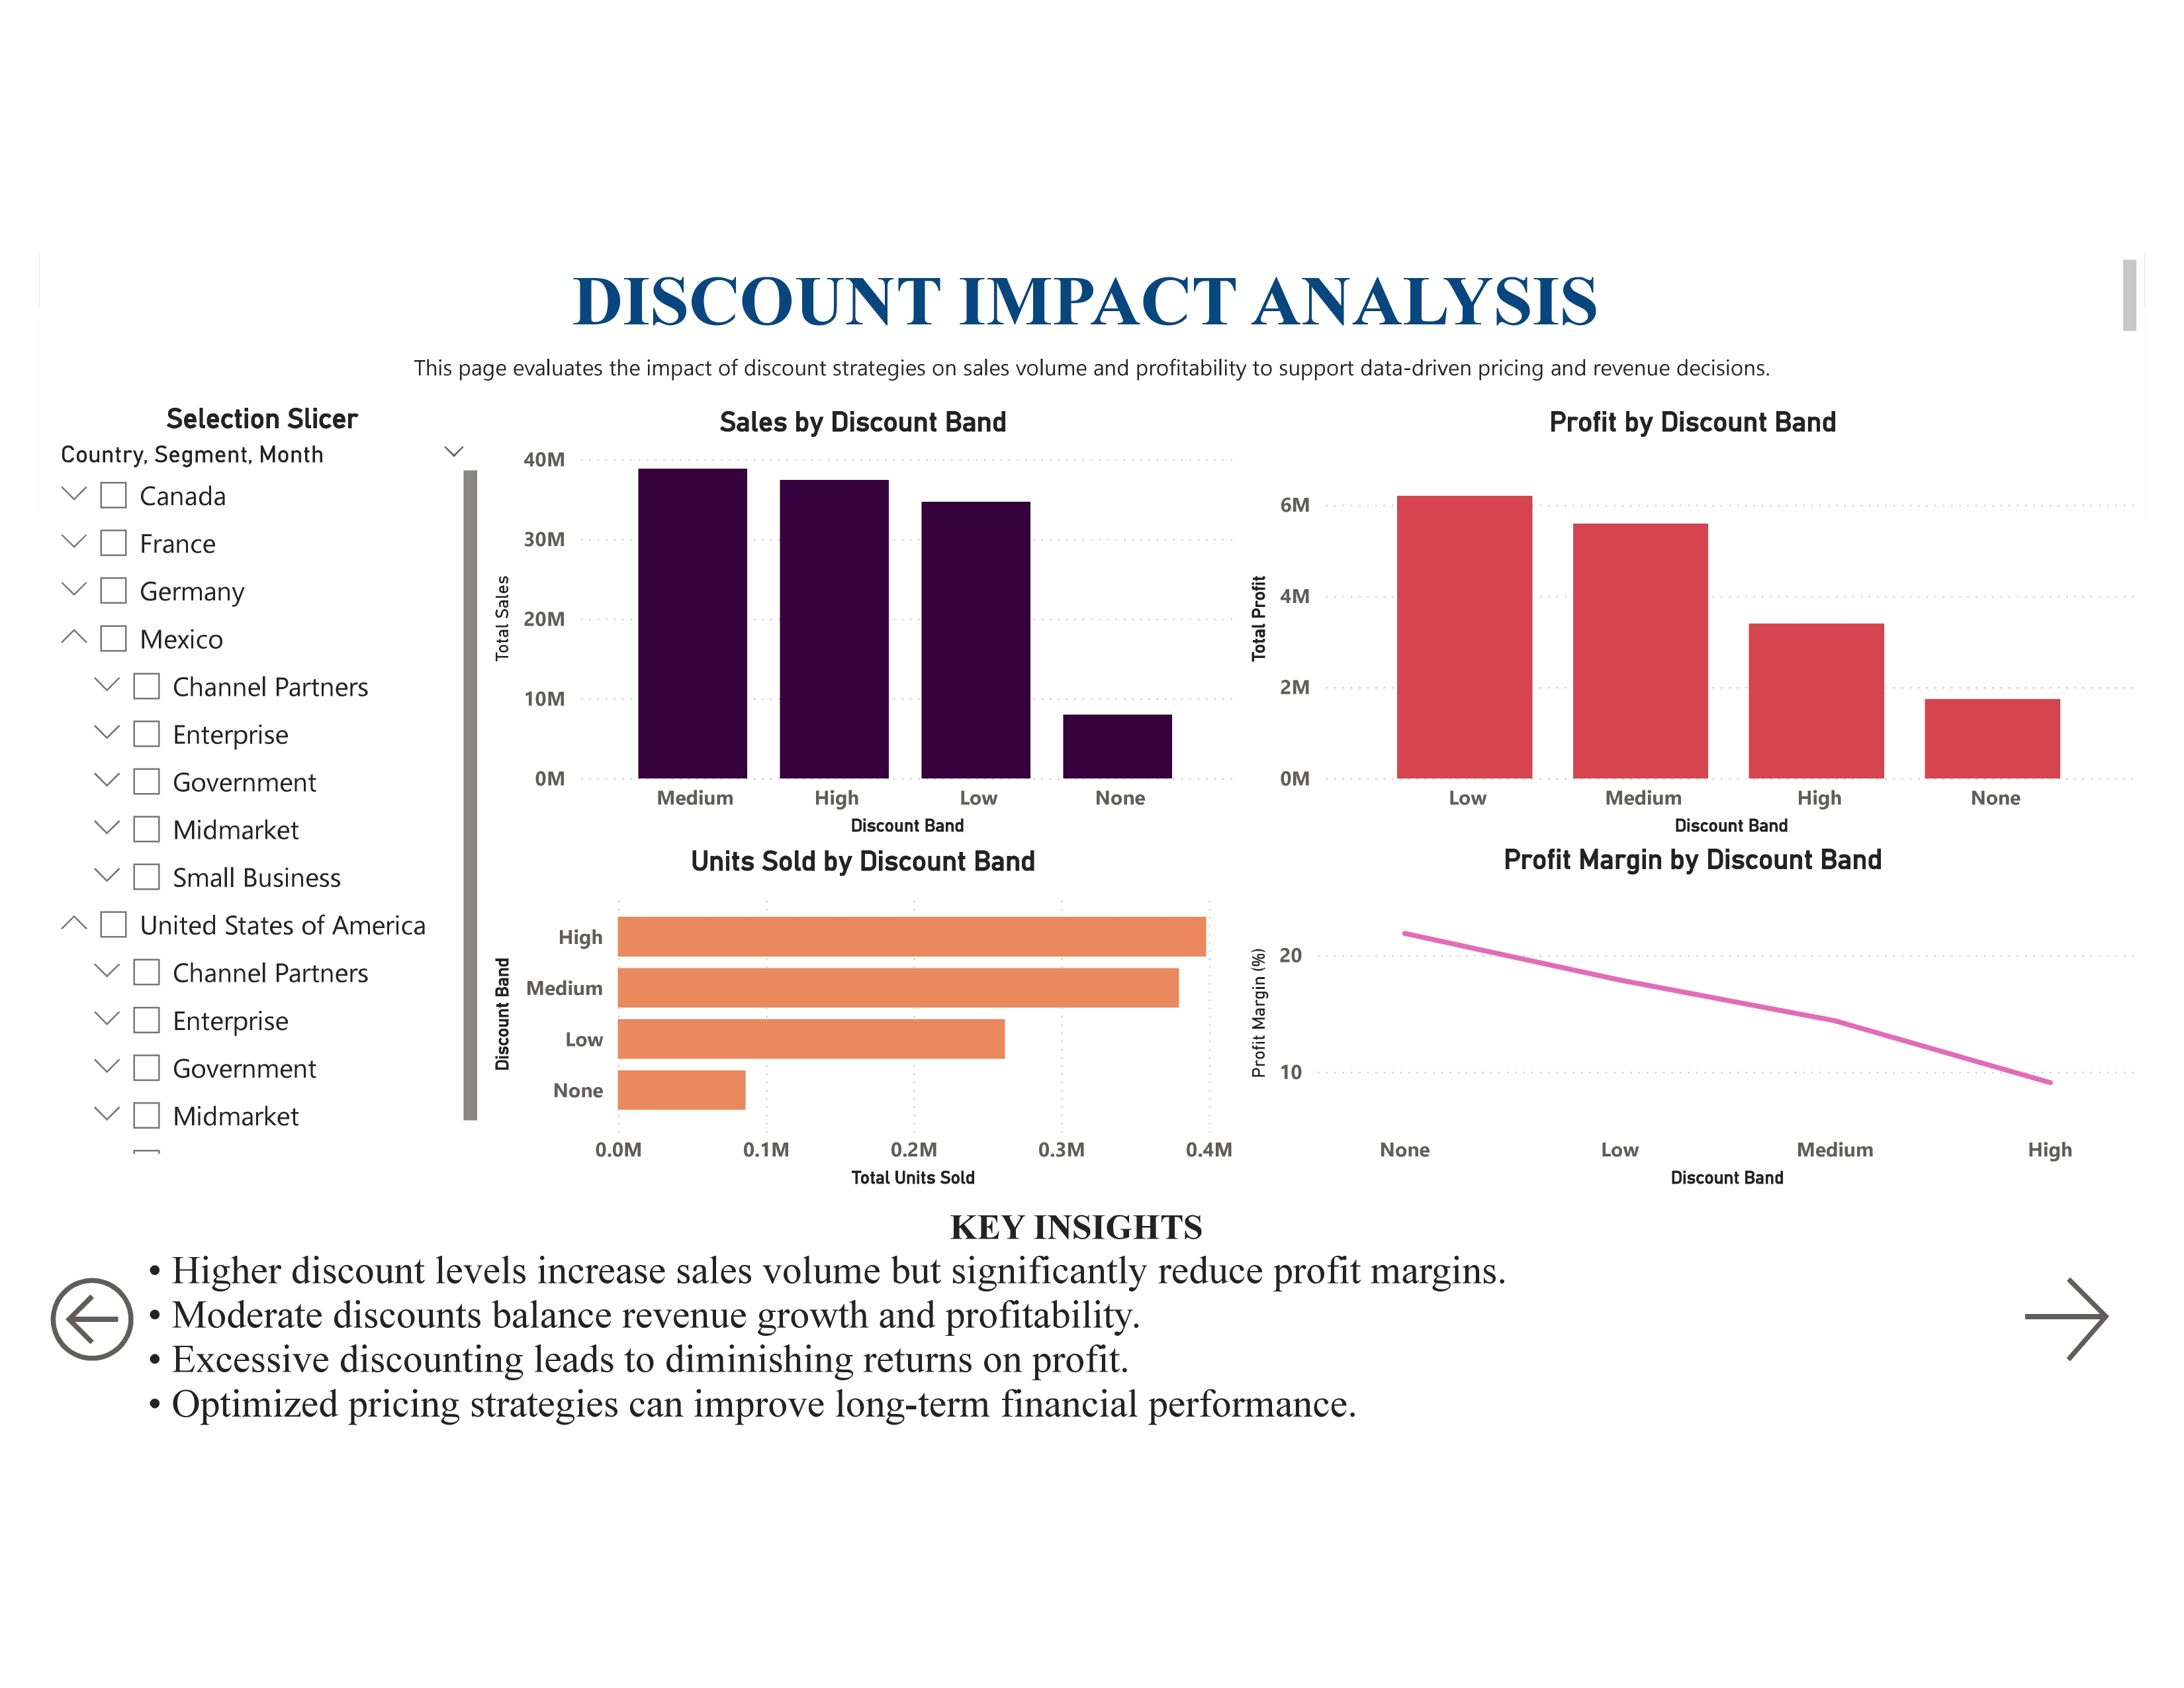

The page's visual inventory and layout, read from the dashboard file:
{"tool":"powerbi","page":{"name":"Discount Impact Analysis","canvas":[1280,720],"ordinal":3},"visuals":[{"type":"actionButton","box":[0,617.5,98.8,63.1],"z":0},{"type":"actionButton","box":[1200.4,617.5,79.6,63.1],"z":1000},{"type":"textbox","box":[61.4,575.7,1138.6,144.3],"z":2000},{"type":"textbox","box":[0,55.7,1280,37.1],"z":3000},{"type":"textbox","box":[0,0,1280,55.7],"z":4000},{"type":"clusteredColumnChart","title":"Sales by Discount Band","fields":{"Y":["Sheet1.Total Sales"],"Category":["Sheet1.Discount Band"]},"box":[271.4,92.9,460,267.1],"z":5000},{"type":"clusteredColumnChart","title":"Profit by Discount Band","fields":{"Category":["Sheet1.Discount Band"],"Y":["Sheet1.Total Profit"]},"box":[731.4,92.9,548.6,267.1],"z":6000},{"type":"clusteredBarChart","title":"Units Sold by Discount Band","fields":{"Y":["Sheet1.Total Units Sold"],"Category":["Sheet1.Discount Band"]},"box":[271.4,360,460,214.3],"z":7000},{"type":"lineChart","title":"Profit Margin by Discount Band","fields":{"Y":["Sheet1.Profit Margin (%)"],"Category":["Sheet1.Discount Band"]},"box":[731.4,358.6,548.6,215.7],"z":8000},{"type":"slicer","title":"Selection Slicer","fields":{"Values":["Sheet1.Country","Sheet1.Segment","Sheet1.Date"]},"box":[0,91.4,271.4,462.9],"z":9000}]}

Visuals, with their boxes on the page's 1280x720 design canvas (x1, y1, x2, y2). These are canvas units, not pixel positions in the 2184x1688 screenshot, which may show the page scaled, cropped or inside an application window:
actionButton: Rect(0, 618, 99, 681)
actionButton: Rect(1200, 618, 1280, 681)
textbox: Rect(61, 576, 1200, 720)
textbox: Rect(0, 56, 1280, 93)
textbox: Rect(0, 0, 1280, 56)
"Sales by Discount Band" clusteredColumnChart: Rect(271, 93, 731, 360)
"Profit by Discount Band" clusteredColumnChart: Rect(731, 93, 1280, 360)
"Units Sold by Discount Band" clusteredBarChart: Rect(271, 360, 731, 574)
"Profit Margin by Discount Band" lineChart: Rect(731, 359, 1280, 574)
"Selection Slicer" slicer: Rect(0, 91, 271, 554)
